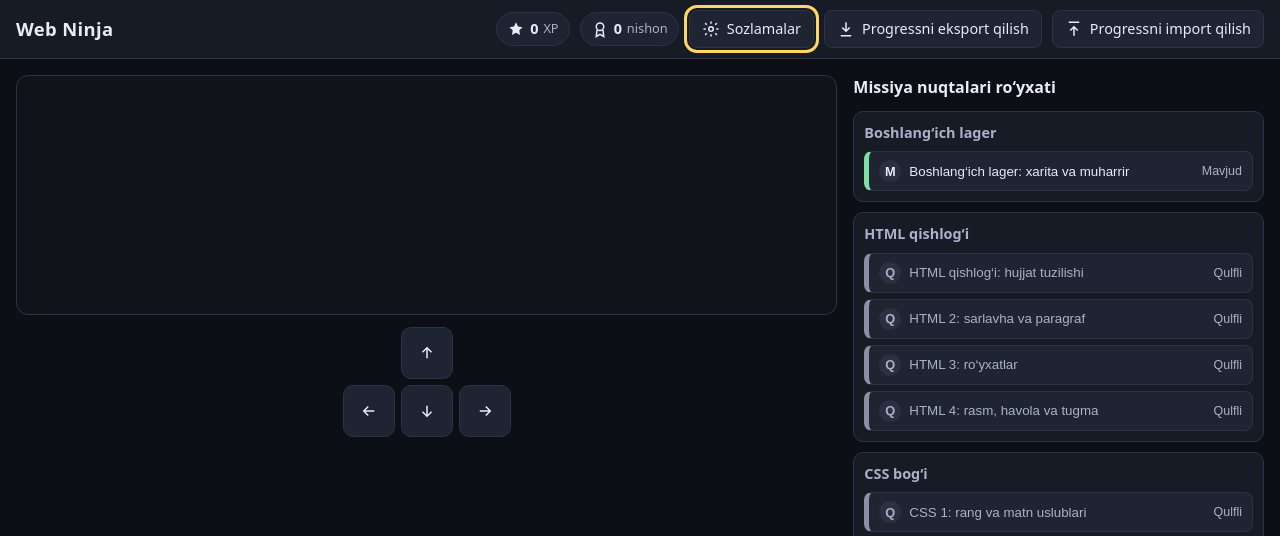
Scenario: modal fokus va klaviatura › fokus modal ichiga o'tadi, Escape yopadi va fokus ochgan tugmaga qaytadi
Step 1. Click the button "Sozlamalar" → (751, 29), box 689,10 -> 814,48
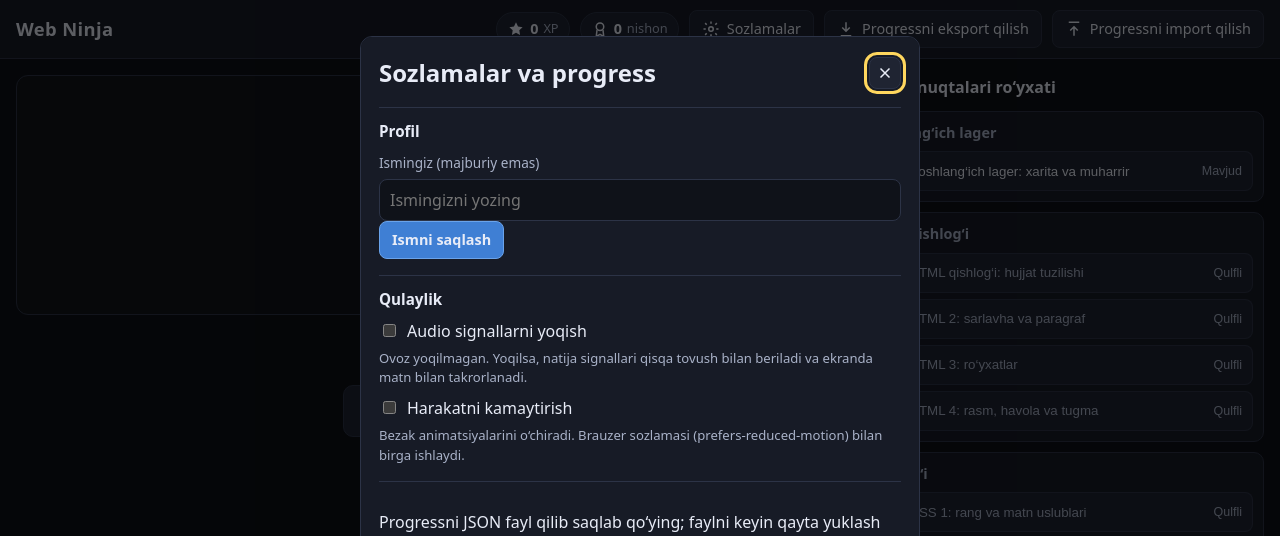
Step 2. Press Escape
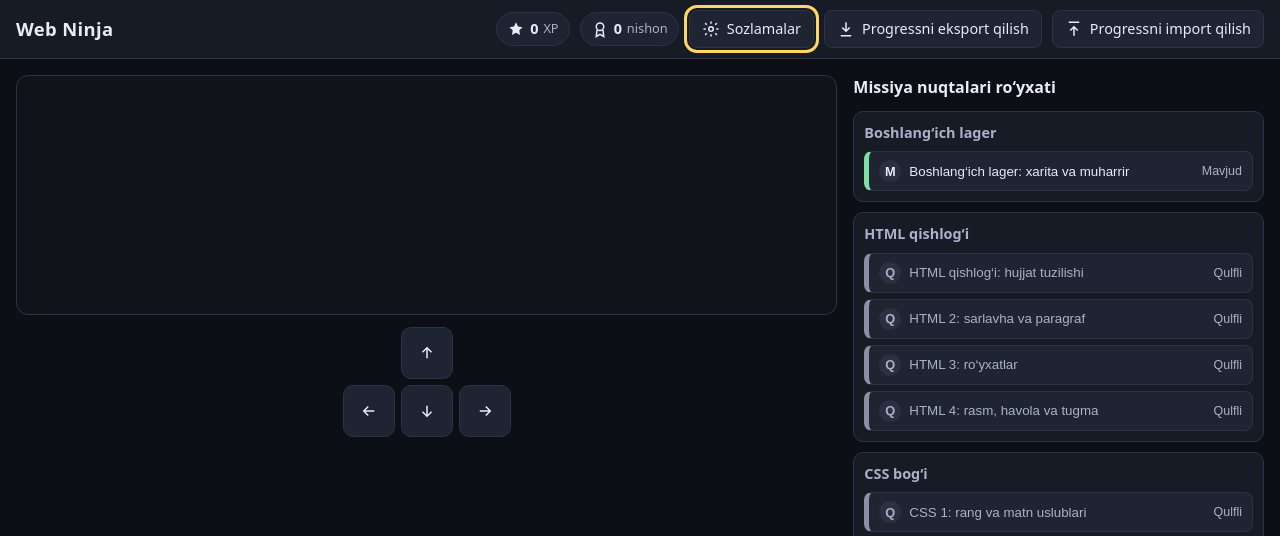
Now the heading "Sozlamalar va progress" is gone
